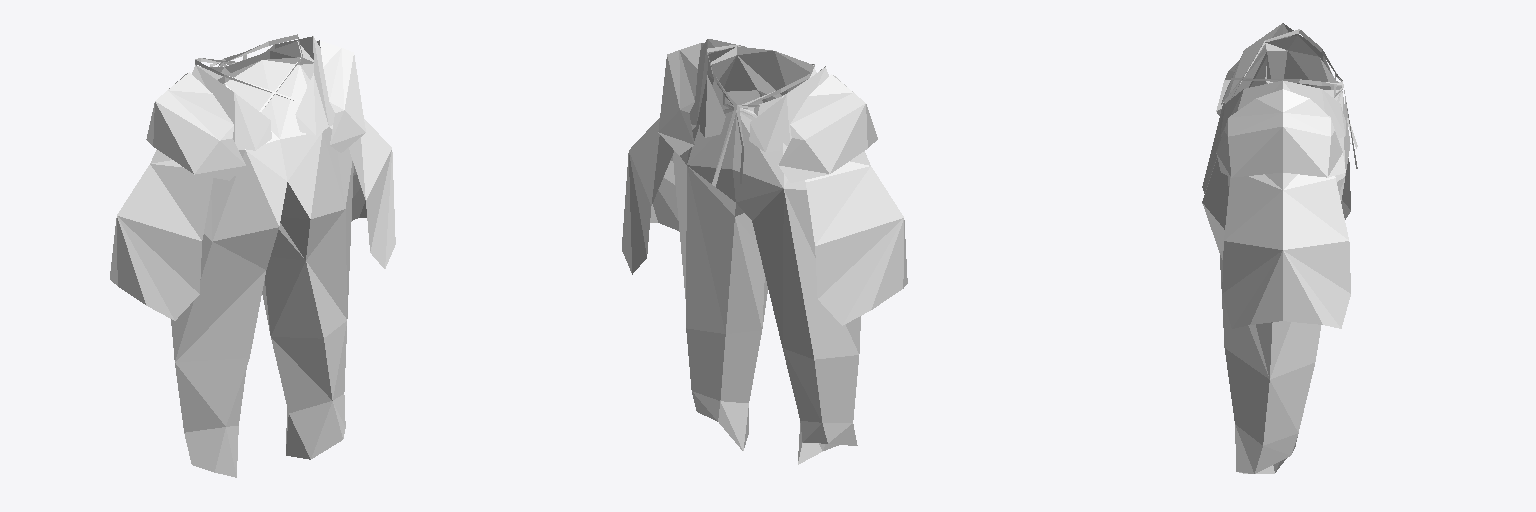
Rendered from 2_mi_pants_16.obj.
3 views of the same model, side by side, from view 1: azimuth 30°, elevation 25°; view 2: azimuth 150°, elevation 25°; view 3: azimuth 270°, elevation 25° (orthographic).
Parts seen in each view (by area): view 1: defaultobject; view 2: defaultobject; view 3: defaultobject.
Boxes of the visible parts, x1,y1,x2,y2 form: defaultobject: [110, 34, 395, 477]; defaultobject: [622, 39, 907, 464]; defaultobject: [1202, 23, 1357, 473].
Bounding box in the file's own units: 13.75 × 19.47 × 6.73.